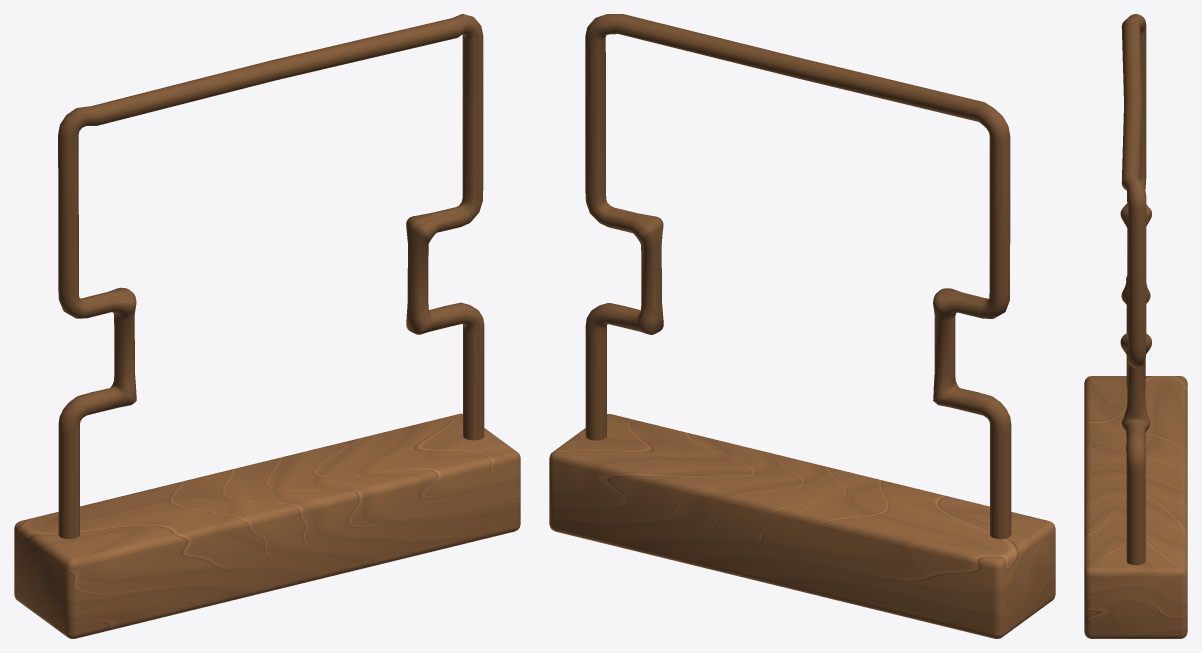
Rendered from LastWood.fbx.
3 renders of one model, left to right at view 1: azimuth 30°, elevation 25°; view 2: azimuth 150°, elevation 25°; view 3: azimuth 270°, elevation 25°, orthographic. The views are drawn at different scales.
Parts seen in each view (by area): view 1: Wood.001; view 2: Wood.001; view 3: Wood.001.
Part boxes in pixels (left/top/right/bottom): Wood.001: left=14, top=14, right=520, bottom=638; Wood.001: left=549, top=14, right=1055, bottom=638; Wood.001: left=1084, top=14, right=1187, bottom=638.
Bounding box in the file's own units: 49.09 × 52.19 × 10.9.
